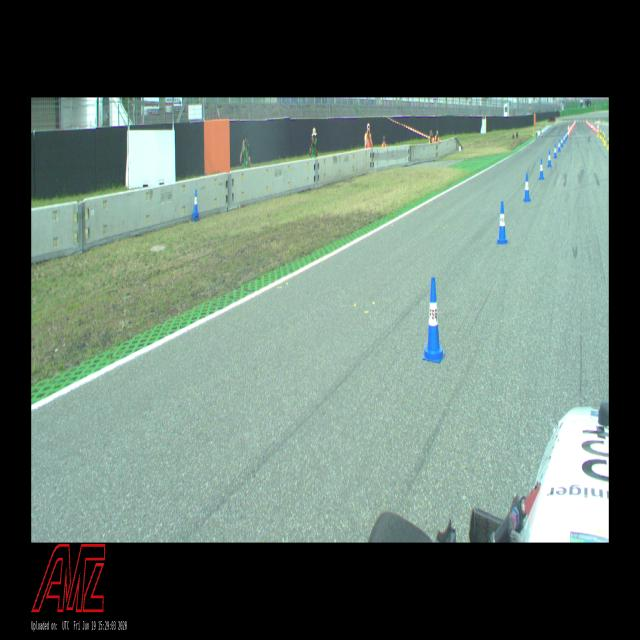blue_cone: (422, 277, 446, 362), (497, 201, 508, 244), (523, 173, 531, 201), (192, 188, 198, 220), (540, 158, 544, 180), (547, 150, 552, 167), (554, 143, 557, 159), (558, 140, 560, 152), (561, 136, 563, 147)
yellow_cone: (603, 134, 606, 146), (607, 137, 609, 150), (602, 131, 604, 141), (600, 130, 602, 139)
